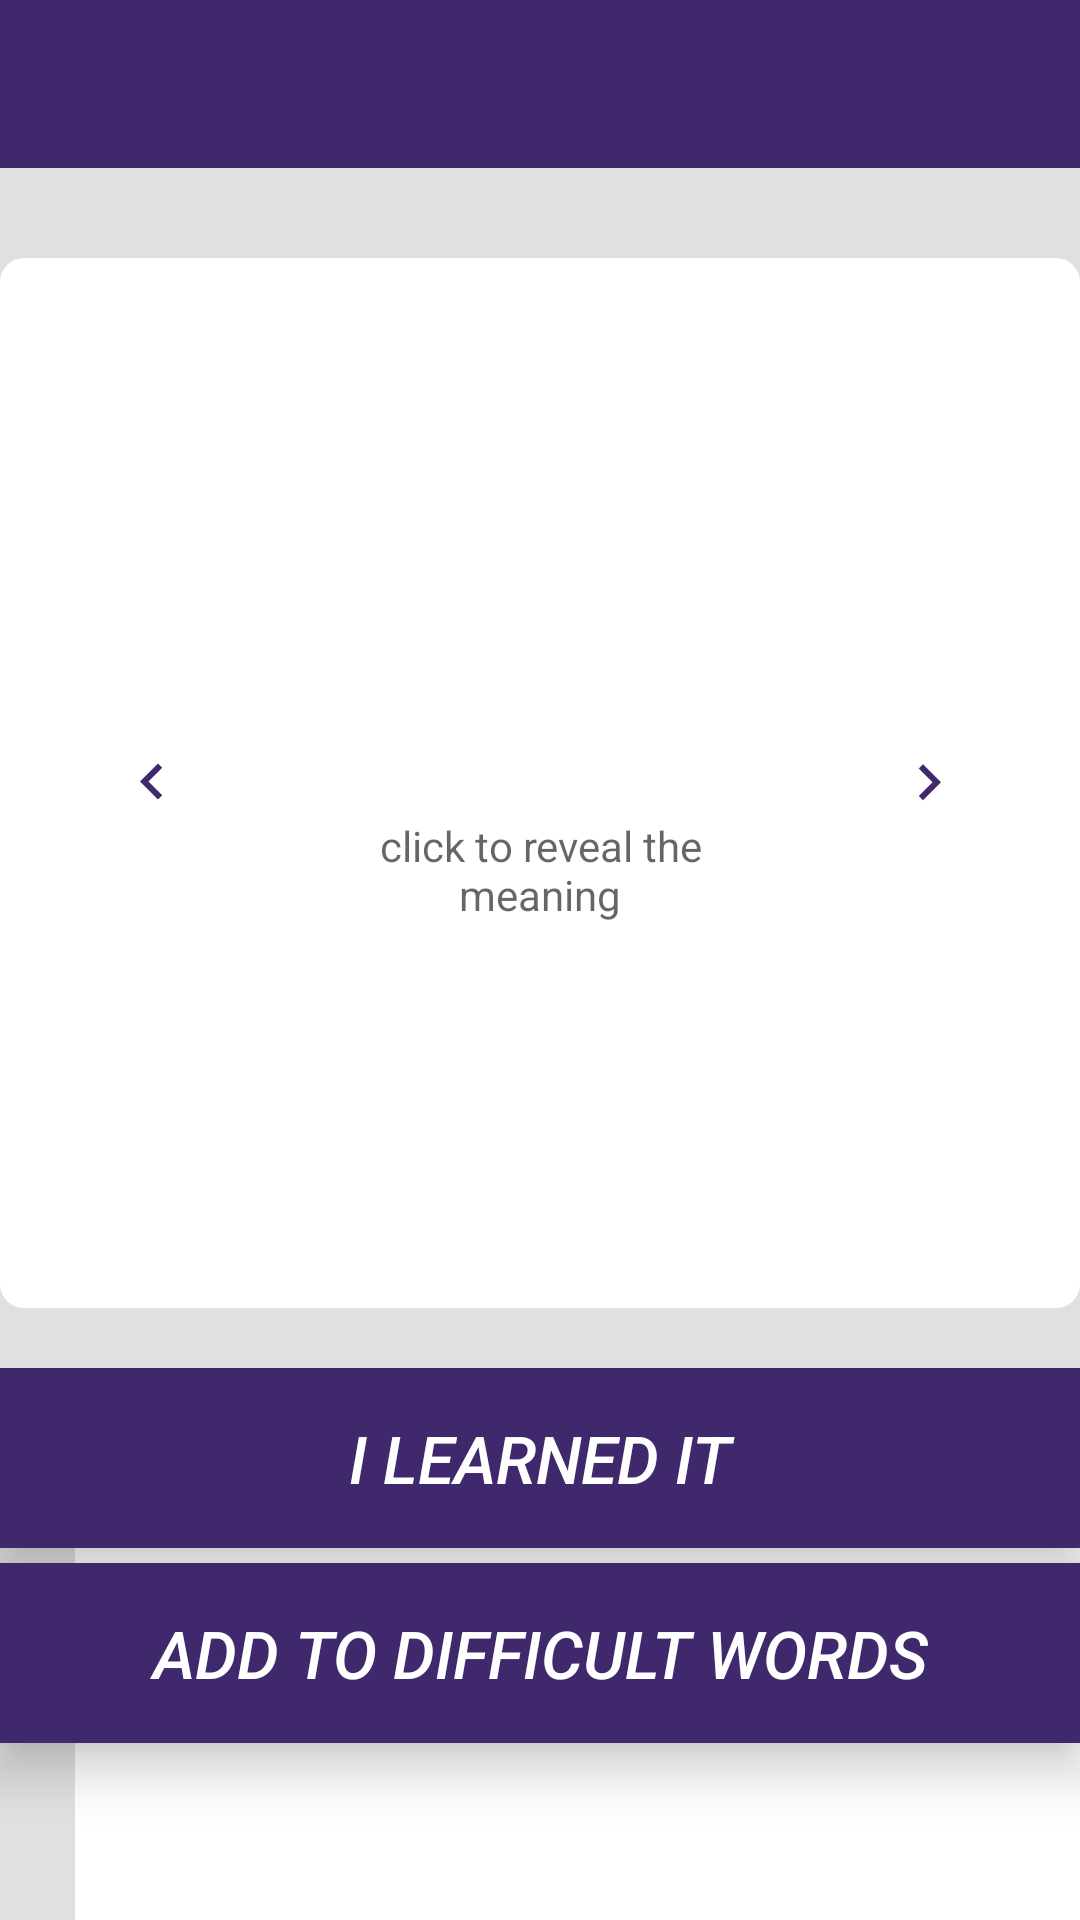

Named icons in this screenshot (1080x1920) and their bounding boxes, rect(x1, y1, x2, y2):
left arrow: rect(140, 763, 162, 800)
right arrow: rect(919, 764, 941, 800)
